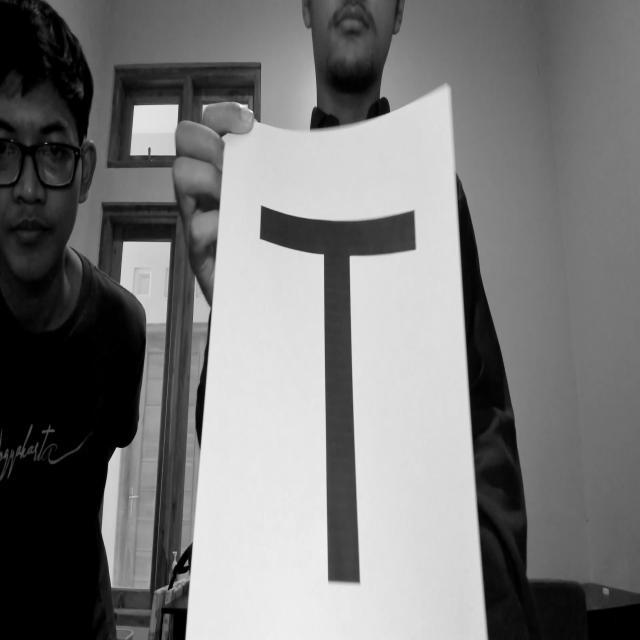t: (236, 176, 440, 604)
